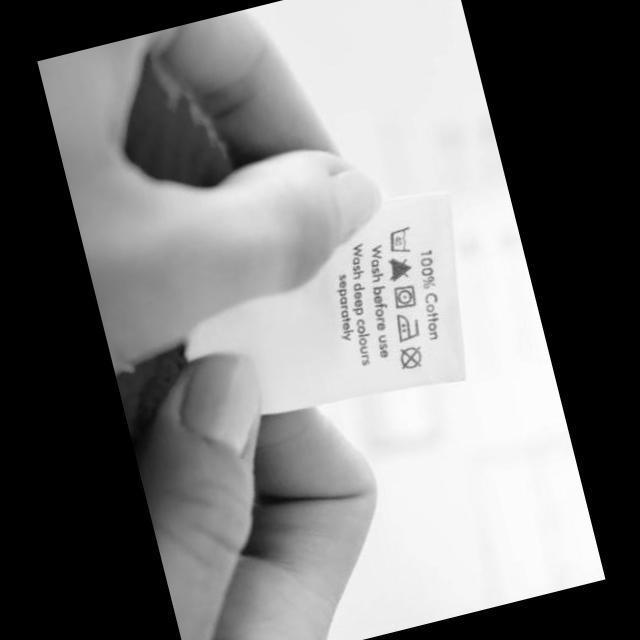40C: (383, 223, 417, 258)
DN_bleach: (381, 251, 415, 286)
DN_dry_clean: (393, 342, 426, 374)
iron_medium: (391, 308, 424, 344)
tumble_dry_low: (386, 281, 418, 312)
